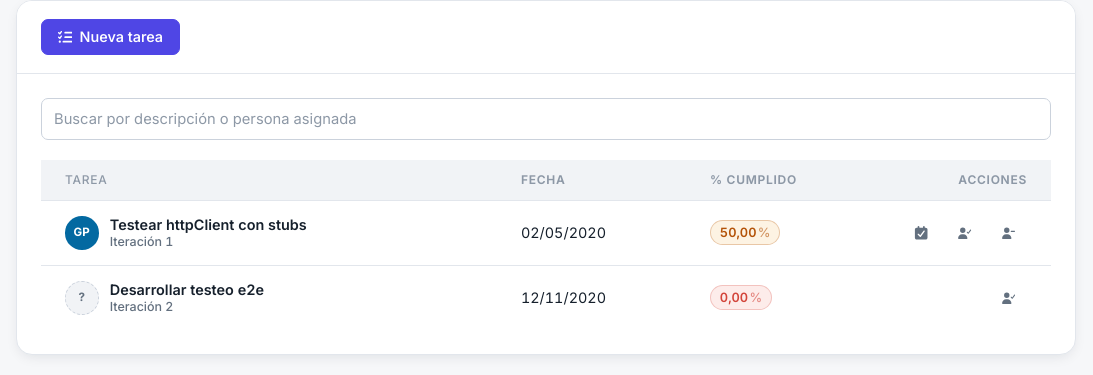
Test: TareasComponent › when a task is done, it has 100% of completion
Click the button named "Cumplir" at (921, 233), box [902,214,941,252]
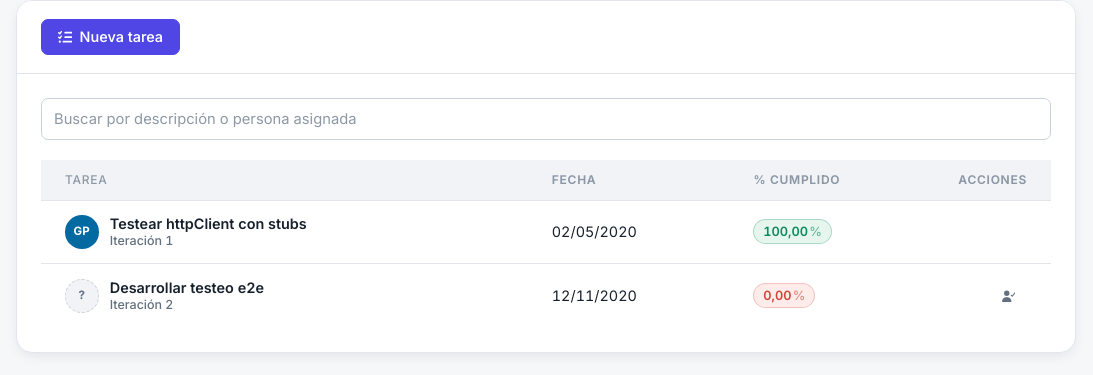
Expected: the text "100,00" is shown, [763,223,808,241]
